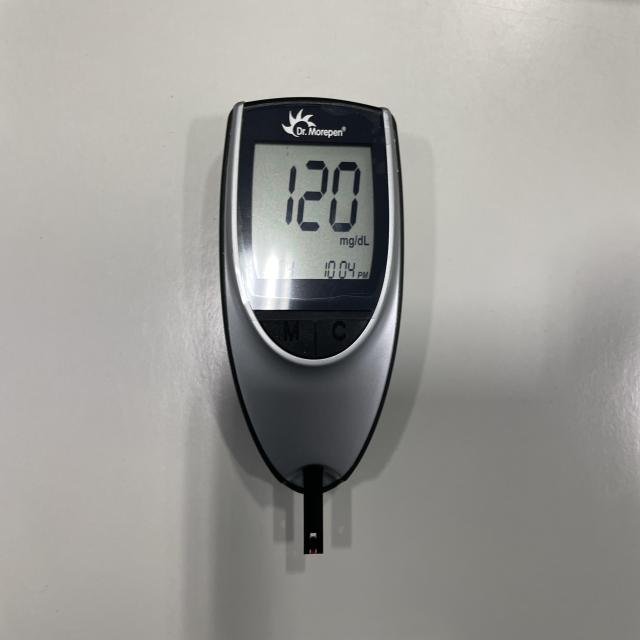gluco: (217, 98, 404, 553)
